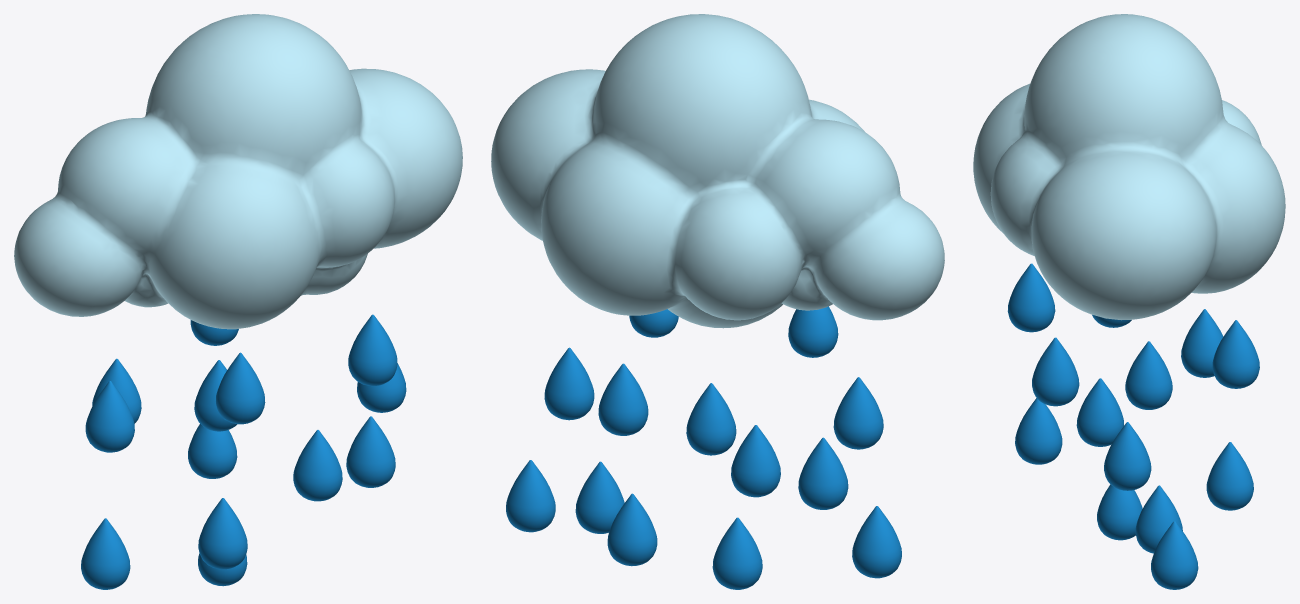
Rendered from regenwolke.fbx.
3 views of the same model, side by side, from view 1: azimuth 30°, elevation 25°; view 2: azimuth 150°, elevation 25°; view 3: azimuth 270°, elevation 25° (orthographic). The views are drawn at different scales.
Parts seen in each view (by area): view 1: Regenwolke; view 2: Regenwolke; view 3: Regenwolke.
Part boxes in pixels (x1=…): Regenwolke: x1=14, y1=14, x2=462, y2=589; Regenwolke: x1=491, y1=14, x2=944, y2=589; Regenwolke: x1=973, y1=14, x2=1285, y2=589.
Bounding box in the file's own units: 0.2674 × 0.1762 × 0.3296.
